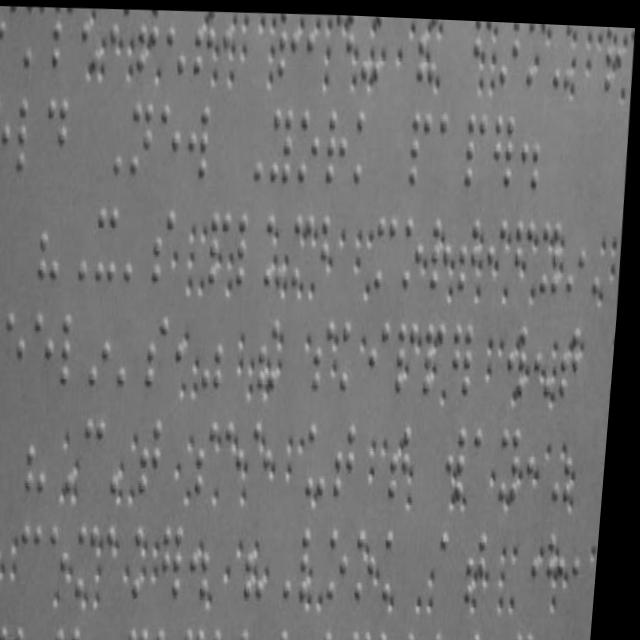braiile: (407, 104, 437, 187), (6, 306, 35, 391), (86, 412, 115, 496), (96, 201, 126, 282), (148, 309, 178, 389), (33, 308, 62, 390), (156, 96, 185, 177), (185, 99, 214, 180), (238, 206, 267, 287), (314, 313, 343, 394), (463, 105, 491, 188), (369, 311, 397, 394), (24, 522, 53, 602), (389, 525, 419, 601), (296, 103, 324, 184), (44, 93, 73, 171), (129, 97, 158, 175), (353, 106, 382, 184), (81, 521, 110, 599), (403, 207, 431, 287), (144, 415, 172, 495), (62, 311, 91, 388), (443, 525, 473, 598), (15, 95, 43, 173), (269, 104, 297, 182), (153, 204, 181, 282), (375, 210, 403, 288), (310, 416, 338, 494), (332, 523, 360, 601), (325, 104, 352, 184), (436, 106, 462, 186), (200, 416, 226, 496), (343, 313, 369, 391), (339, 414, 365, 492), (476, 420, 502, 496), (48, 6, 77, 71), (459, 213, 484, 288), (19, 6, 47, 69), (275, 10, 300, 76), (0, 5, 19, 66), (0, 96, 15, 172), (0, 306, 7, 390)
